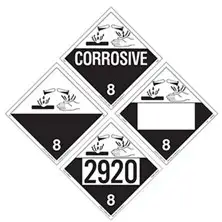Corrosive: (59, 7, 163, 110), (114, 62, 218, 165), (59, 117, 162, 220), (5, 63, 108, 165)
